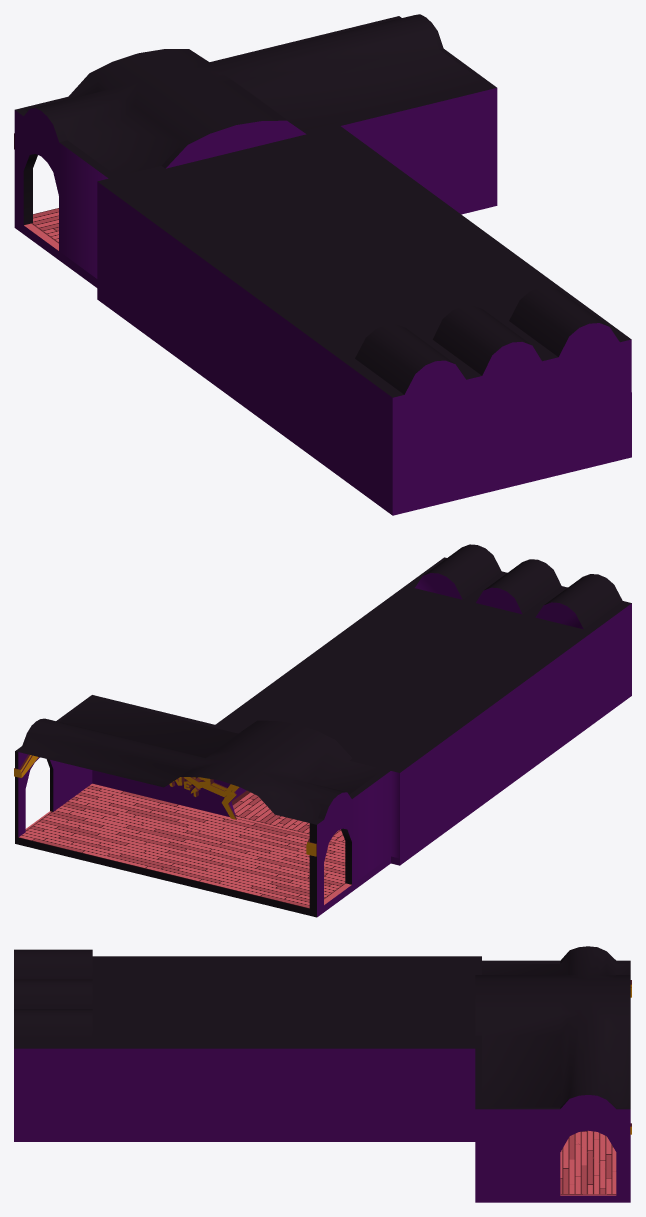
The model's file is EDITEDbowling_alley_frame.fbx.
The picture shows the model from 3 angles, top to bottom: view 1: azimuth 30°, elevation 25°; view 2: azimuth 150°, elevation 25°; view 3: azimuth 270°, elevation 25°; orthographic projection. The views are drawn at different scales.
Visible parts, largest first — view 1: Roof, Walls, WoodFloor, DoorFrames; view 2: Roof, Walls, WoodFloor, Trim, DoorFrames; view 3: Roof, Walls, WoodFloor.
Boxes of the visible parts, x1,y1,x2,y2 form: Roof: (15,14,631,397); Walls: (14,88,631,515); WoodFloor: (24,208,58,250); DoorFrames: (23,154,37,224); Roof: (15,544,631,824); Walls: (15,603,631,917); WoodFloor: (19,783,351,908); Trim: (14,754,316,856); DoorFrames: (46,759,351,884); Roof: (14,946,630,1109); Walls: (14,1048,630,1202); WoodFloor: (560,1130,616,1195).
Bounding box in the file's own units: 2286 × 795 × 3897.
